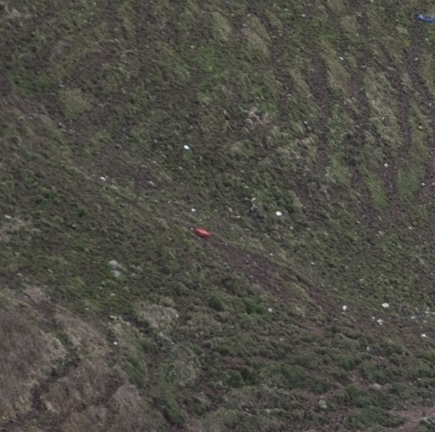white_in_green: (175, 208, 229, 253)
